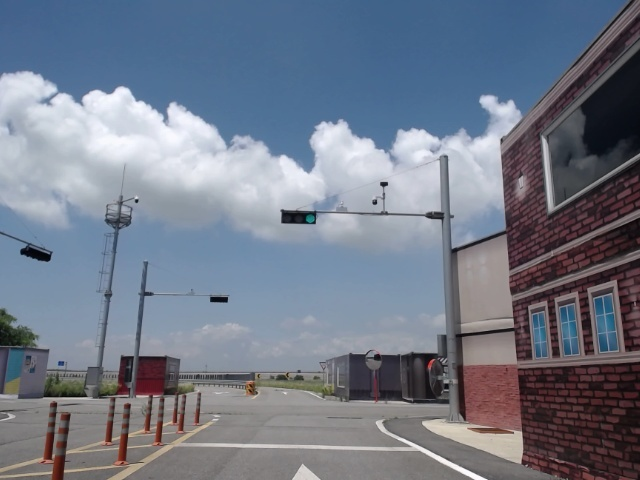green_3: (282, 212, 315, 224)
